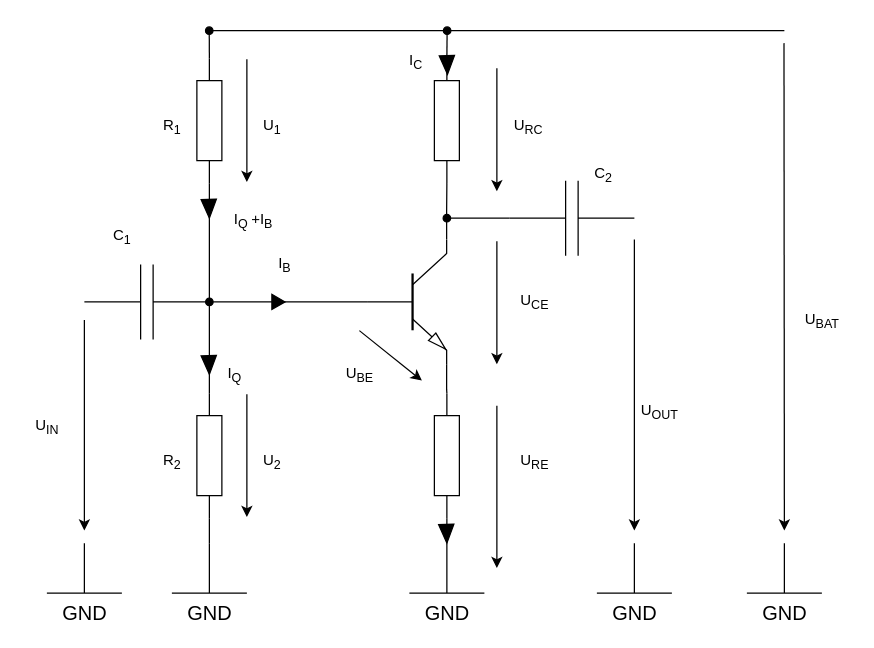
This 874x648 diagram has some shape labels left out. The box of each missing label's shape, as (x1, y1, x2, y2) in pixels:
R C: (433, 57, 459, 183)
R E: (433, 392, 459, 518)
